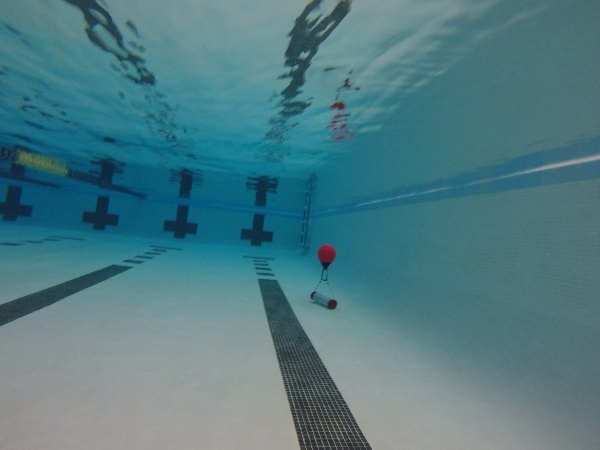buoy_red: (316, 244, 337, 269)
